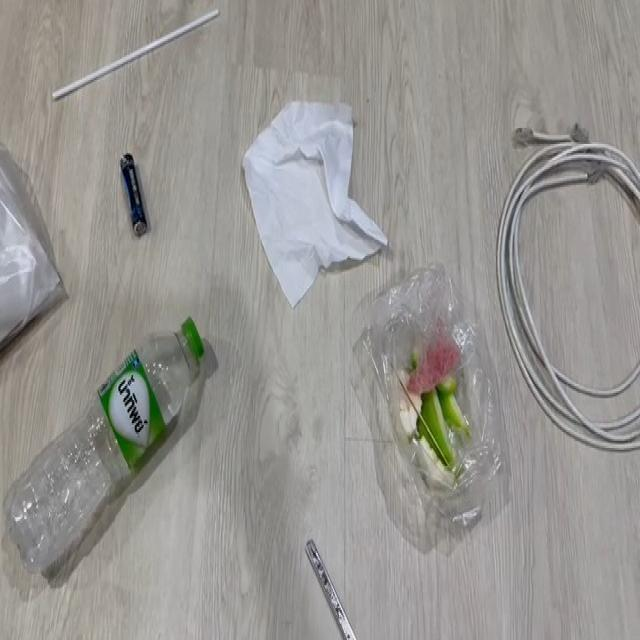Anorganik: (15, 352, 214, 552), (234, 89, 372, 312), (0, 166, 73, 368), (62, 30, 223, 94), (303, 546, 365, 640)
B3: (507, 139, 640, 441), (365, 291, 510, 530), (118, 145, 152, 250)
